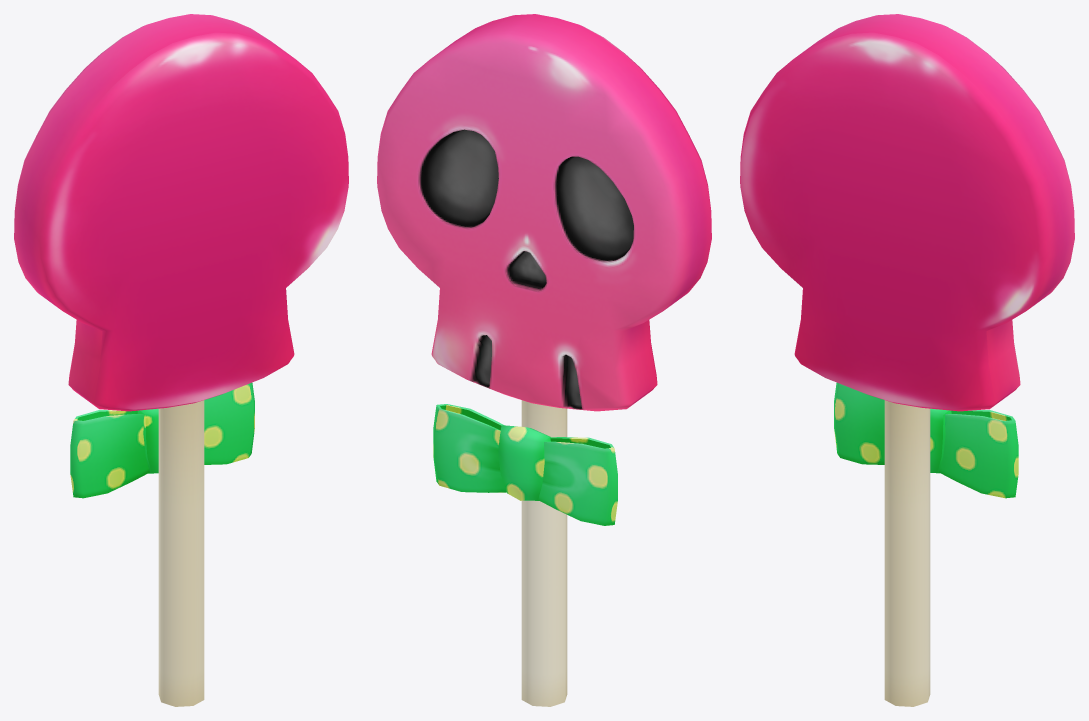
The model's file is HalloweenItem_Candy01.glb.
The picture shows the model from 3 angles, left to right: view 1: azimuth 30°, elevation 25°; view 2: azimuth 150°, elevation 25°; view 3: azimuth 330°, elevation 25°; orthographic projection.
Parts seen in each view (by area): view 1: M_candy01, M_ribbon01; view 2: M_candy01, M_ribbon01; view 3: M_candy01, M_ribbon01.
Part boxes in pixels (x1,y1,x2,y2): M_candy01: (14,14,348,706); M_ribbon01: (70,382,254,498); M_candy01: (377,14,711,706); M_ribbon01: (433,404,617,525); M_candy01: (740,14,1074,706); M_ribbon01: (834,382,1018,498).
Size of the model in its own units: 0.0686 by 0.1419 by 0.0171.
Materials: 1 (1 with a texture image).
